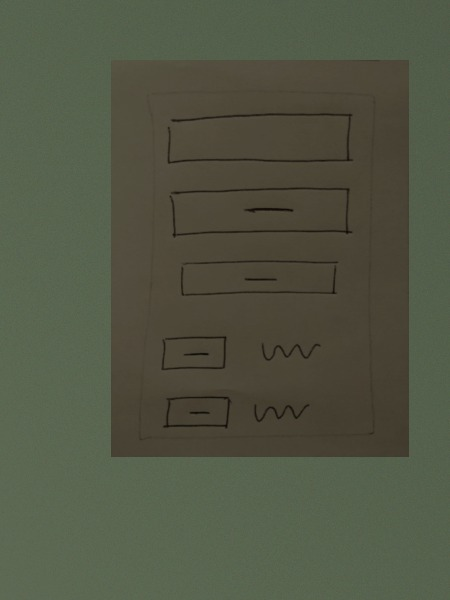button: (164, 186, 357, 241), (175, 257, 341, 303), (159, 333, 233, 377), (160, 389, 234, 433)
text: (256, 333, 325, 367), (248, 394, 317, 428)
text_input: (165, 112, 356, 171)
